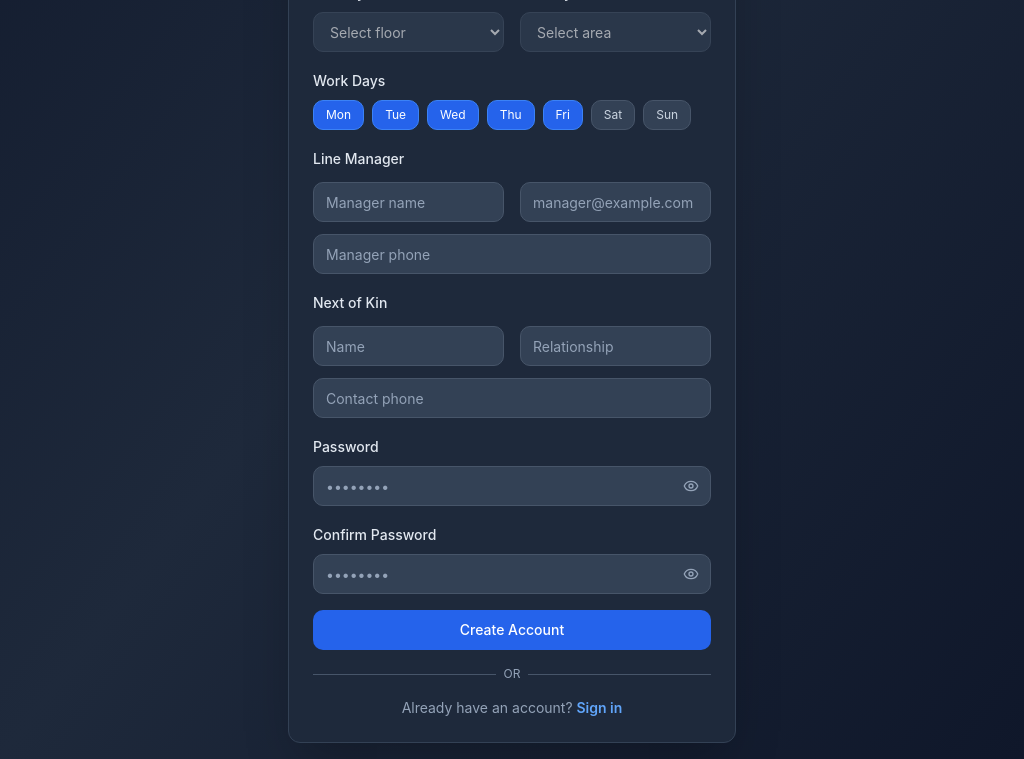
Test case: Auth page UI negative states › shows register validation messages for required name, email, and password
The width and height of the screenshot is (1024, 759).
(page scrolled)
Step 1. Click the button "Create Account" → (512, 630), box top-left (313, 610), bottom-right (711, 650)
(page scrolled)
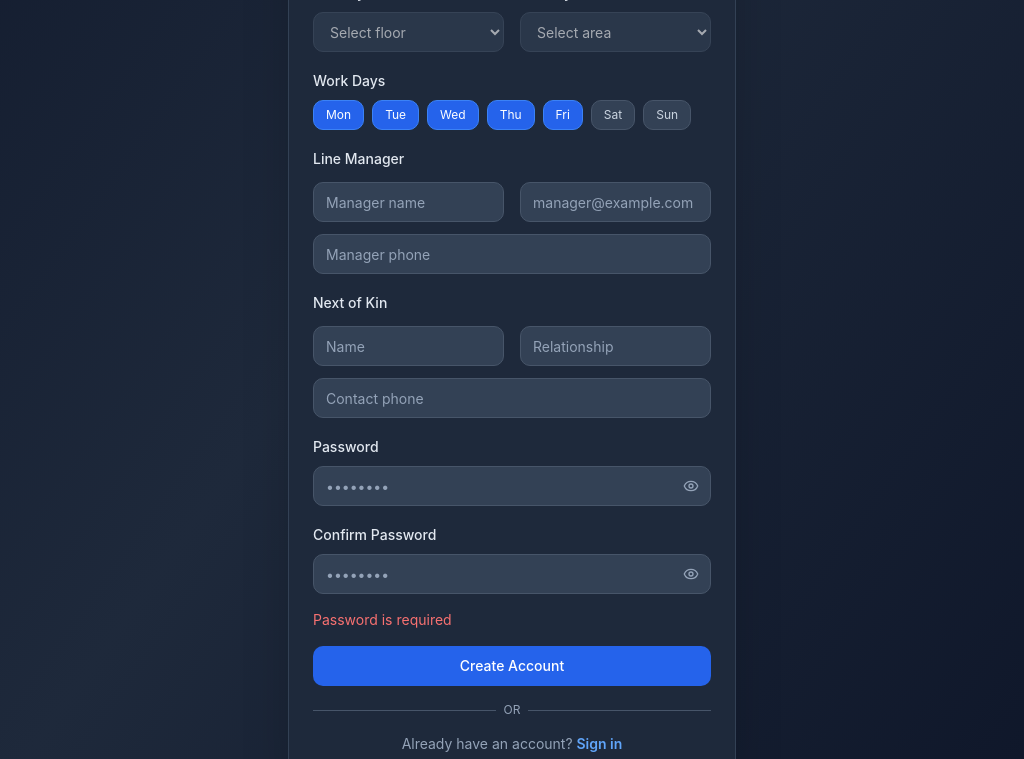
Expected: the text "Password is required" is shown, top-left (313, 611), bottom-right (452, 628)
